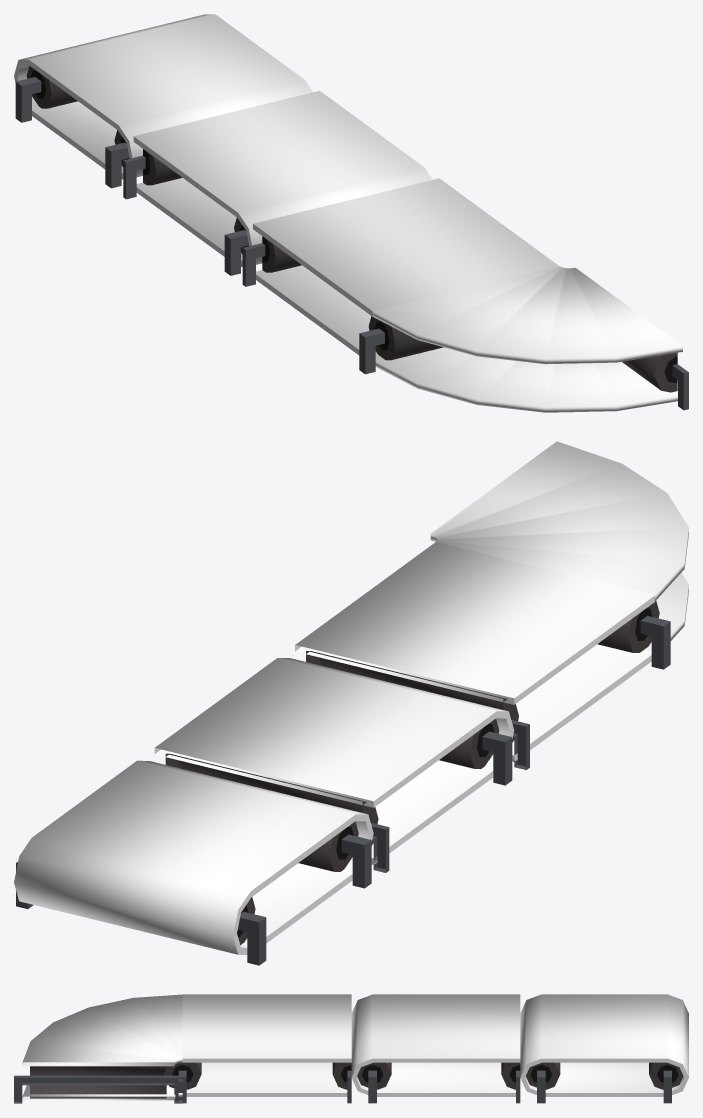
The model's file is Conveyors.fbx.
3 views of the same model, one above another, from view 1: azimuth 30°, elevation 25°; view 2: azimuth 150°, elevation 25°; view 3: azimuth 270°, elevation 25° (orthographic). The views are drawn at different scales.
Visible parts, largest first — view 1: ConveyorL, ConveyorI, ConveyorU, ConveyorO; view 2: ConveyorO, ConveyorI, ConveyorU, ConveyorL; view 3: ConveyorI, ConveyorU, ConveyorO, ConveyorL.
Part boxes in pixels (left/top/right/bottom): ConveyorL: left=362, top=266, right=688, bottom=412; ConveyorI: left=242, top=178, right=558, bottom=371; ConveyorU: left=123, top=91, right=432, bottom=275; ConveyorO: left=14, top=14, right=312, bottom=188; ConveyorO: left=14, top=760, right=373, bottom=965; ConveyorI: left=295, top=542, right=666, bottom=769; ConveyorU: left=154, top=658, right=514, bottom=872; ConveyorL: left=430, top=441, right=688, bottom=666; ConveyorI: left=182, top=994, right=351, bottom=1103; ConveyorU: left=351, top=994, right=520, bottom=1103; ConveyorO: left=520, top=994, right=688, bottom=1103; ConveyorL: left=14, top=994, right=182, bottom=1103.
Bounding box in the file's own units: 1 × 0.27 × 4.
